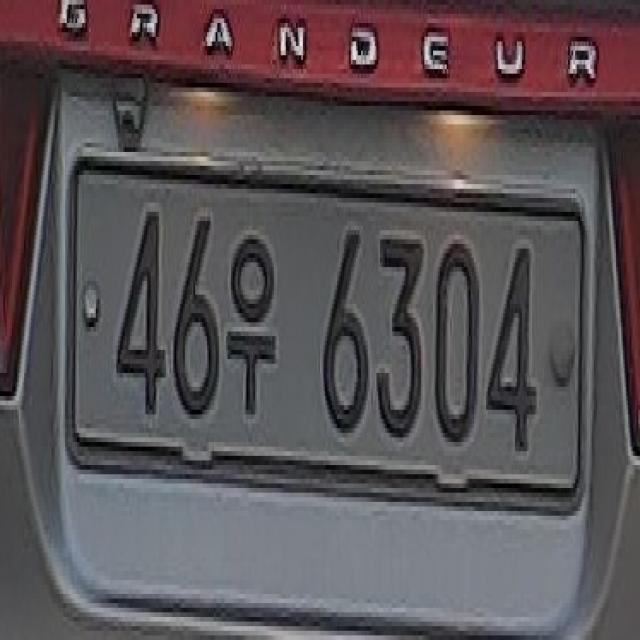0: (433, 229, 481, 464)
3: (376, 219, 428, 459)
4: (112, 188, 168, 452), (484, 233, 540, 462)
6: (317, 209, 373, 467), (172, 190, 222, 446)
license_plate: (57, 125, 598, 552)
u: (226, 216, 281, 436)
